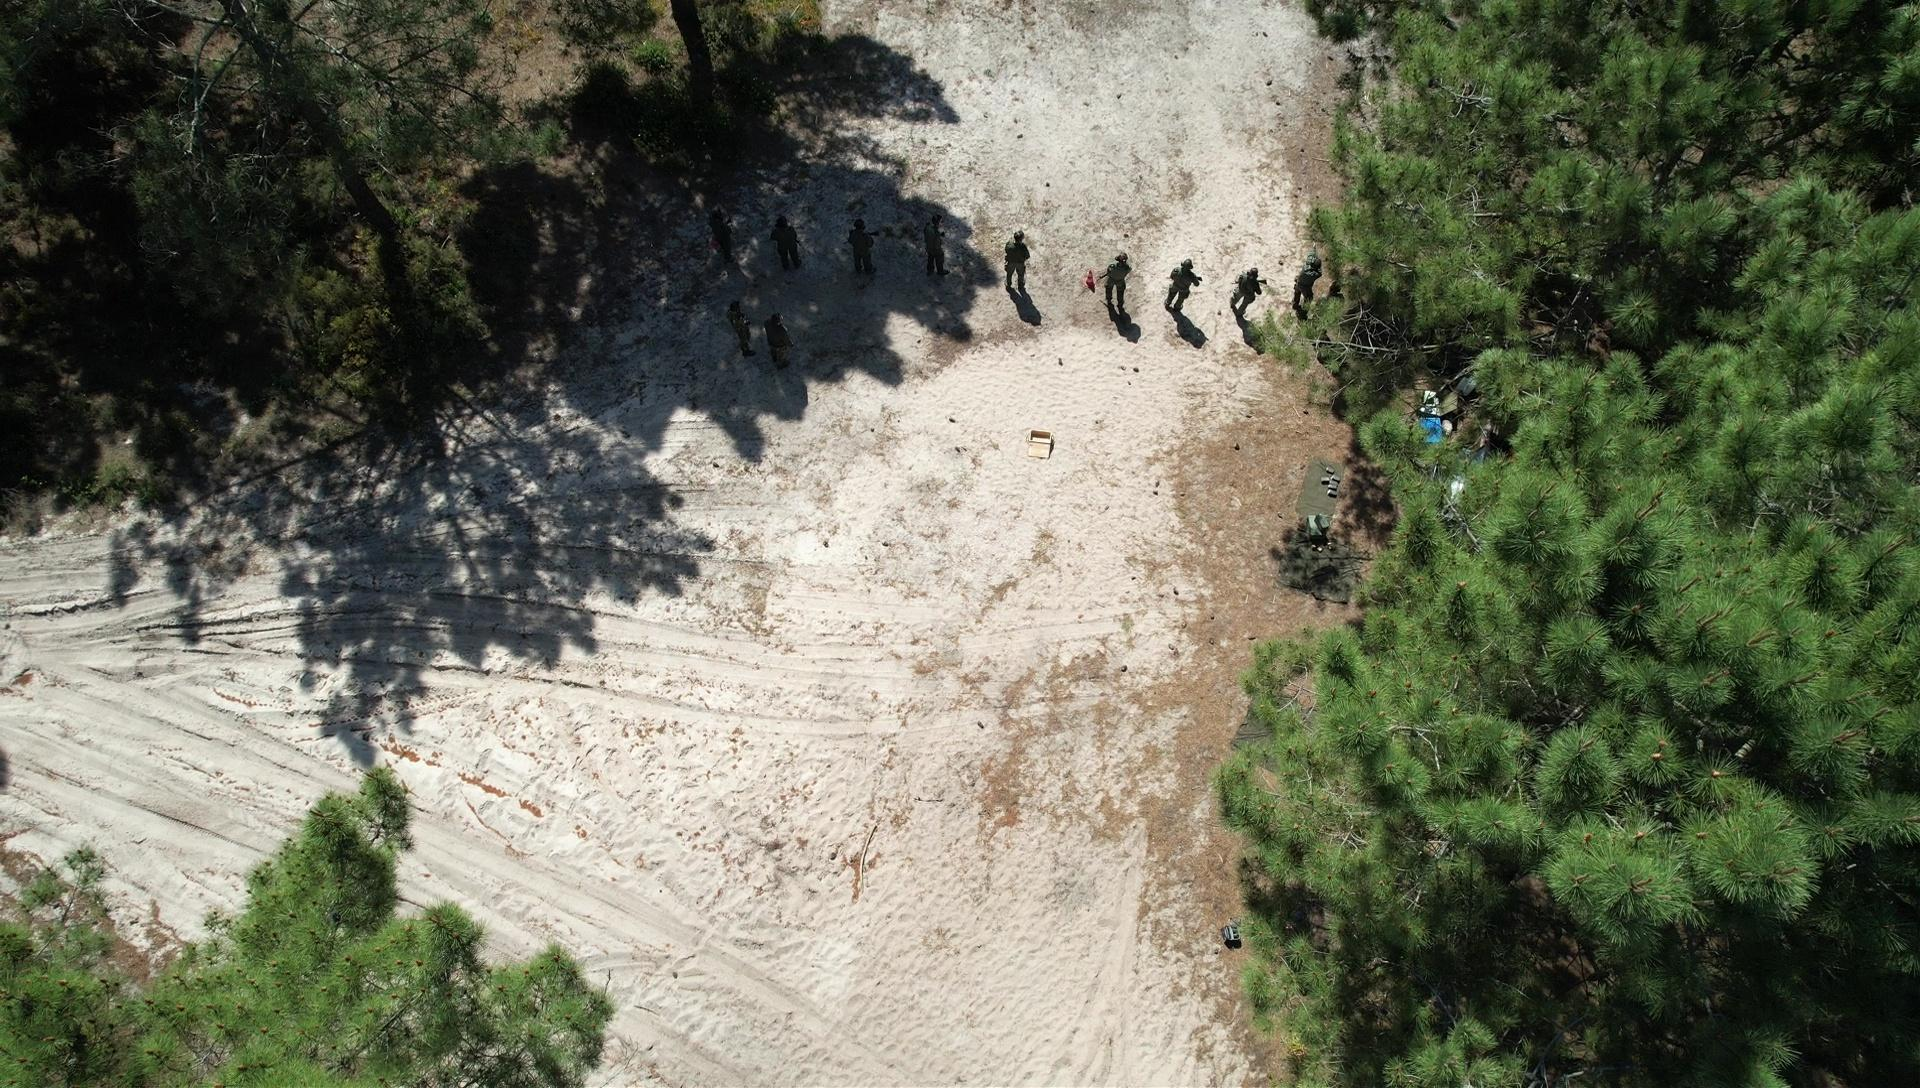Soldier: (835, 210, 891, 285), (758, 303, 808, 380), (761, 210, 807, 280), (1226, 260, 1271, 331), (916, 206, 957, 284), (1288, 245, 1331, 317), (696, 204, 740, 273), (996, 222, 1034, 299), (719, 297, 764, 360), (1100, 243, 1135, 320), (1160, 255, 1201, 320)
